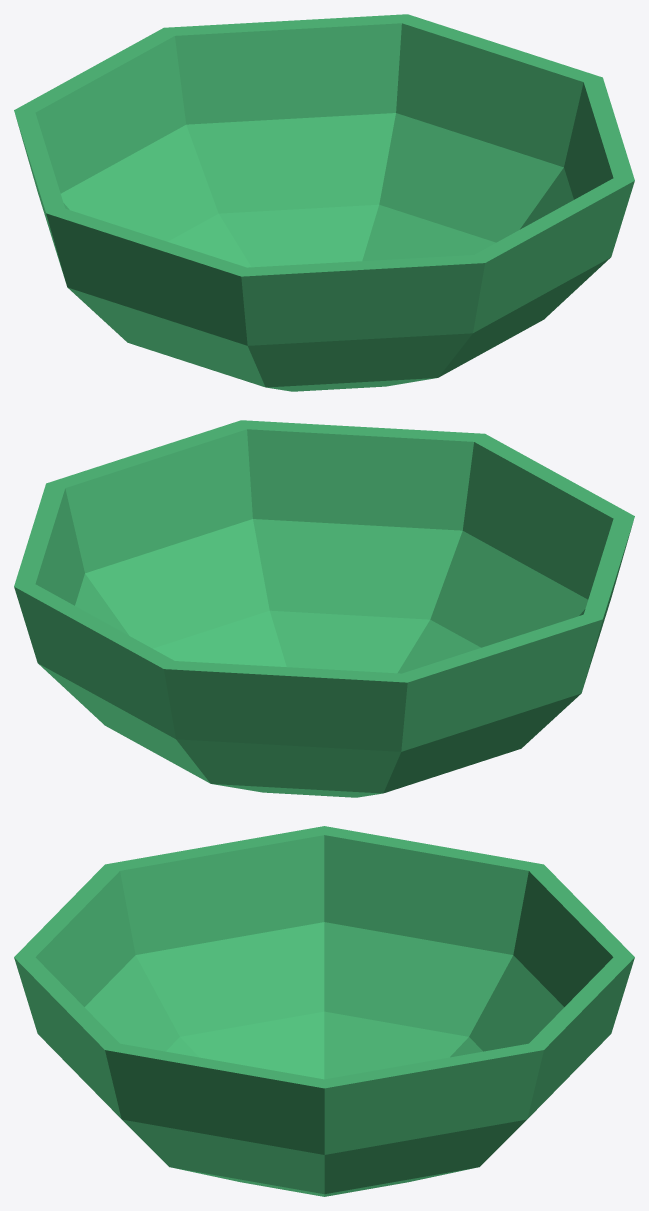
The model's file is bowl_01.fbx.
3 views of the same model, one above another, from view 1: azimuth 30°, elevation 25°; view 2: azimuth 150°, elevation 25°; view 3: azimuth 270°, elevation 25° (orthographic). The views are drawn at different scales.
Visible parts, largest first — view 1: pSphere2; view 2: pSphere2; view 3: pSphere2.
Boxes of the visible parts, x1=… form: pSphere2: x1=14, y1=14, x2=634, y2=391; pSphere2: x1=14, y1=420, x2=634, y2=797; pSphere2: x1=14, y1=826, x2=634, y2=1196.
Bounding box in the file's own units: 0.19 × 0.064 × 0.19.
